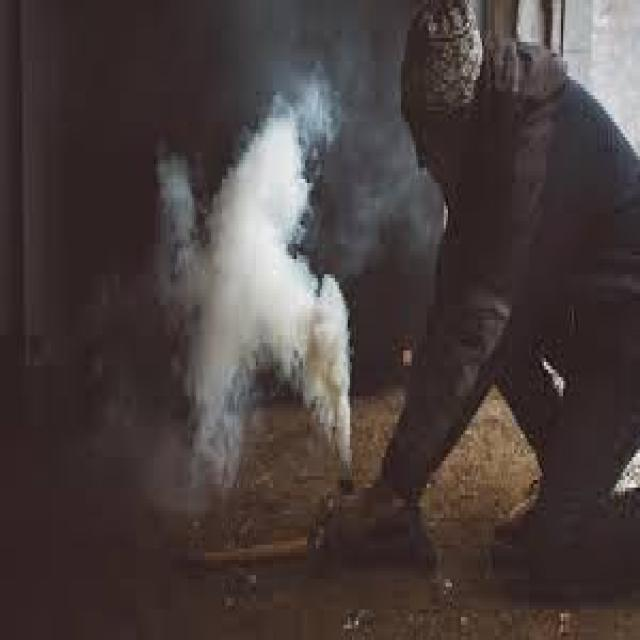Smoke: (154, 92, 352, 490)
